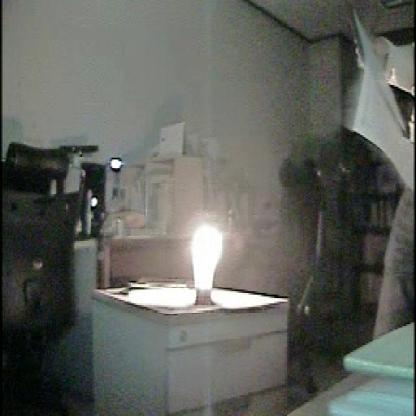fire: (166, 216, 239, 306)
